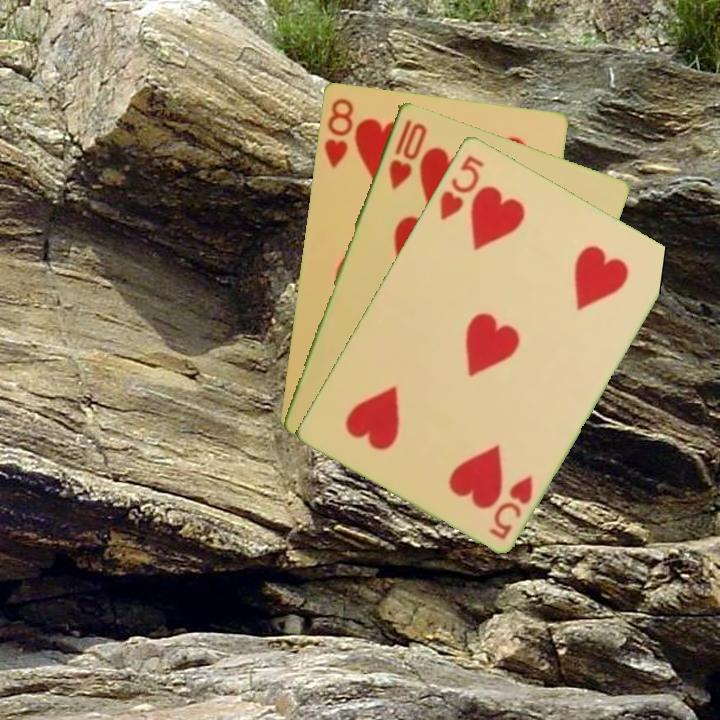10h: (384, 114, 429, 191)
5h: (435, 151, 487, 222), (485, 472, 536, 542)
8h: (320, 94, 356, 171)
